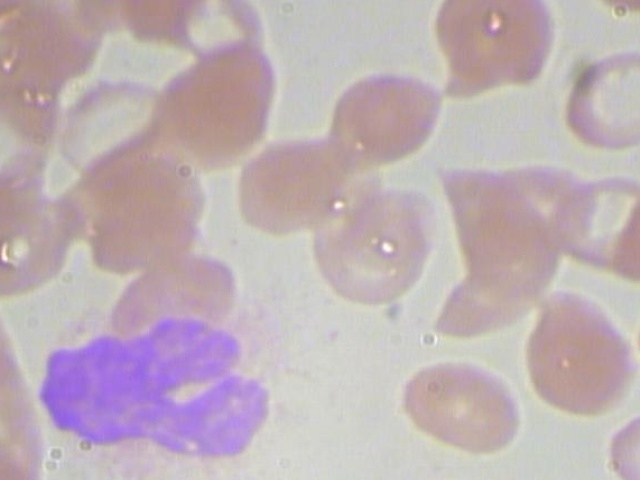RBC: (300, 177, 444, 313), (512, 285, 640, 424), (77, 152, 211, 280), (424, 0, 561, 114), (391, 345, 525, 457), (229, 131, 360, 235), (321, 70, 448, 170), (554, 45, 640, 155), (0, 198, 83, 302)
WBC: (14, 285, 339, 480)
